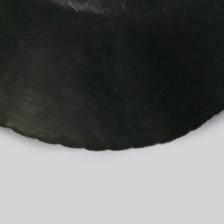healthy: (18, 12, 191, 126)
